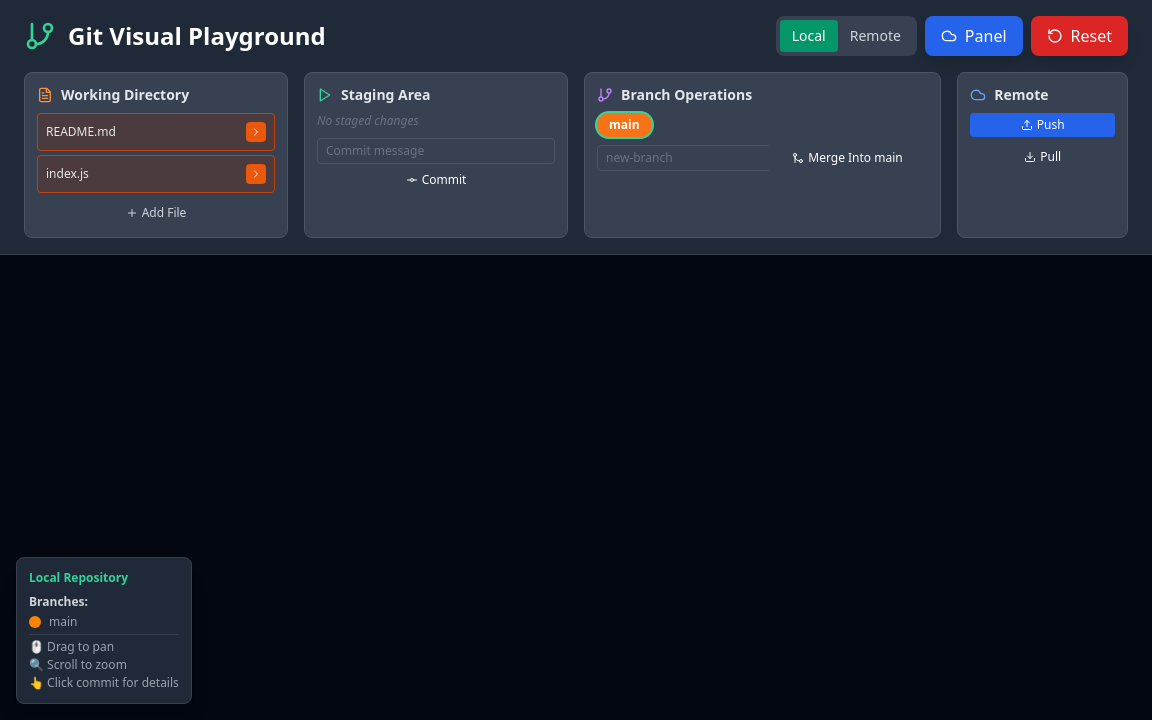
Scenario: Git Visual Playground › Dialog Interactions › T9.4: Enter key submits add file form
This screenshot has width=1152, height=720.
Click the button "Add File": [156, 213] box [37,201,275,225]
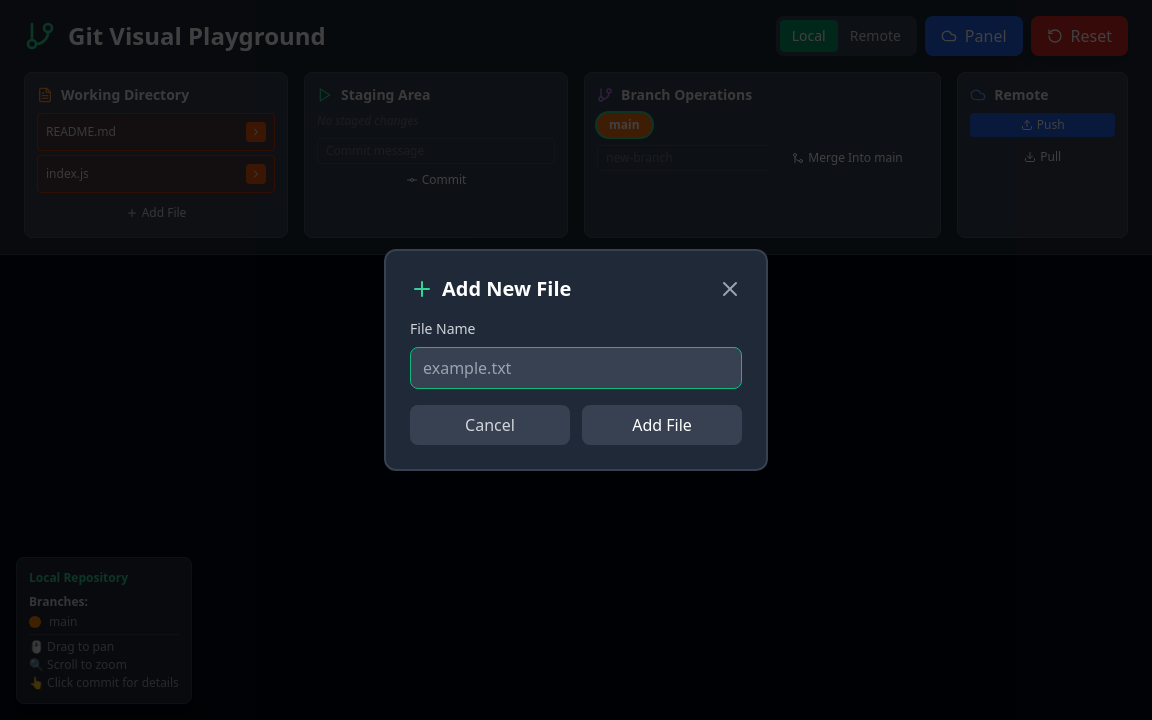
In the field with placeholder "example.txt": [576, 368] box [410,347,742,389], type "test.js"
Then press Enter
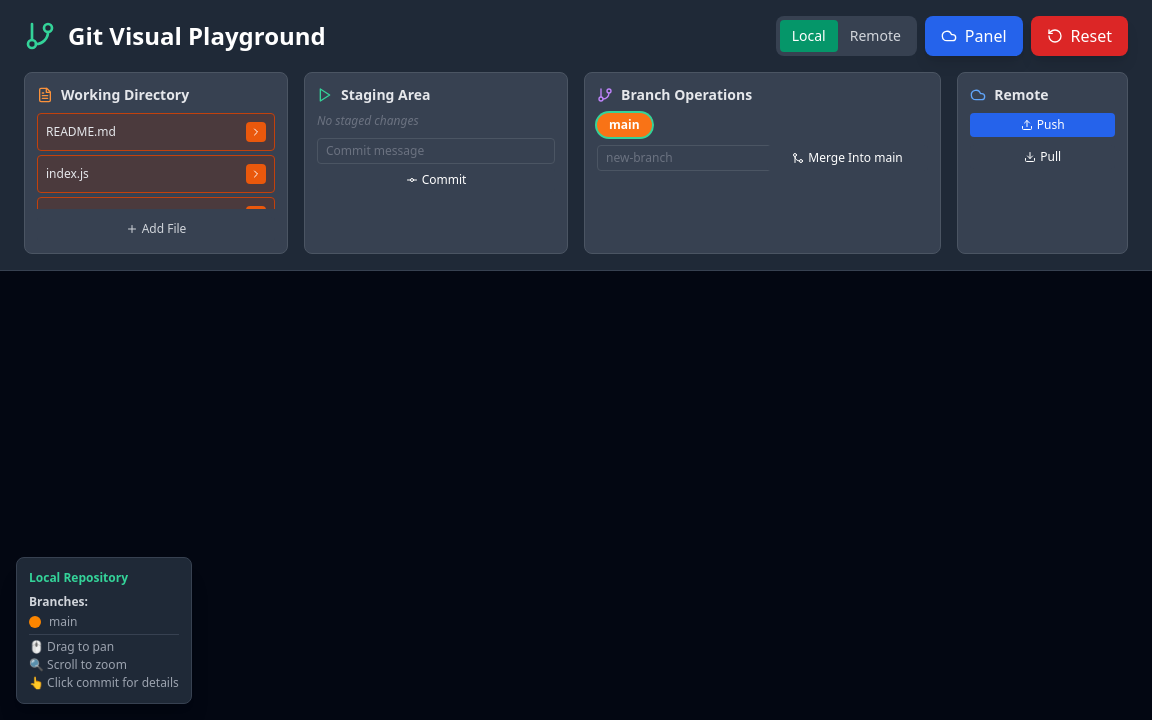
Expected: the heading "Add New File" is gone
